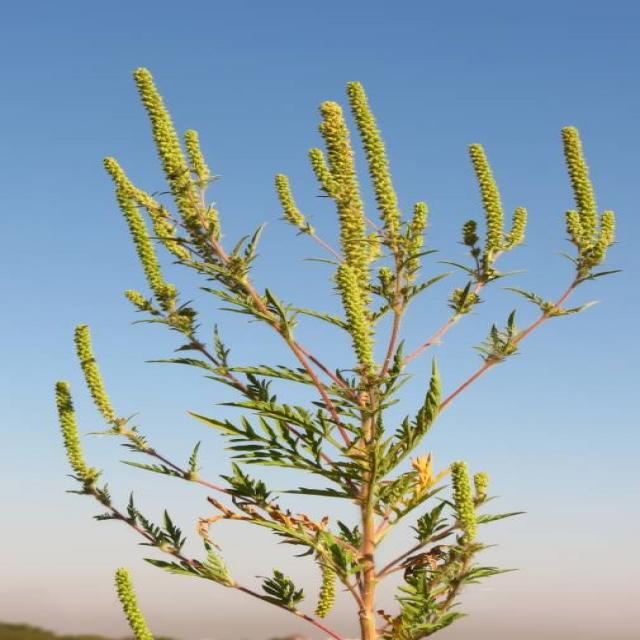ambrosia: (259, 63, 640, 278), (71, 68, 278, 324), (328, 421, 508, 603), (0, 316, 140, 511), (31, 550, 296, 640)
